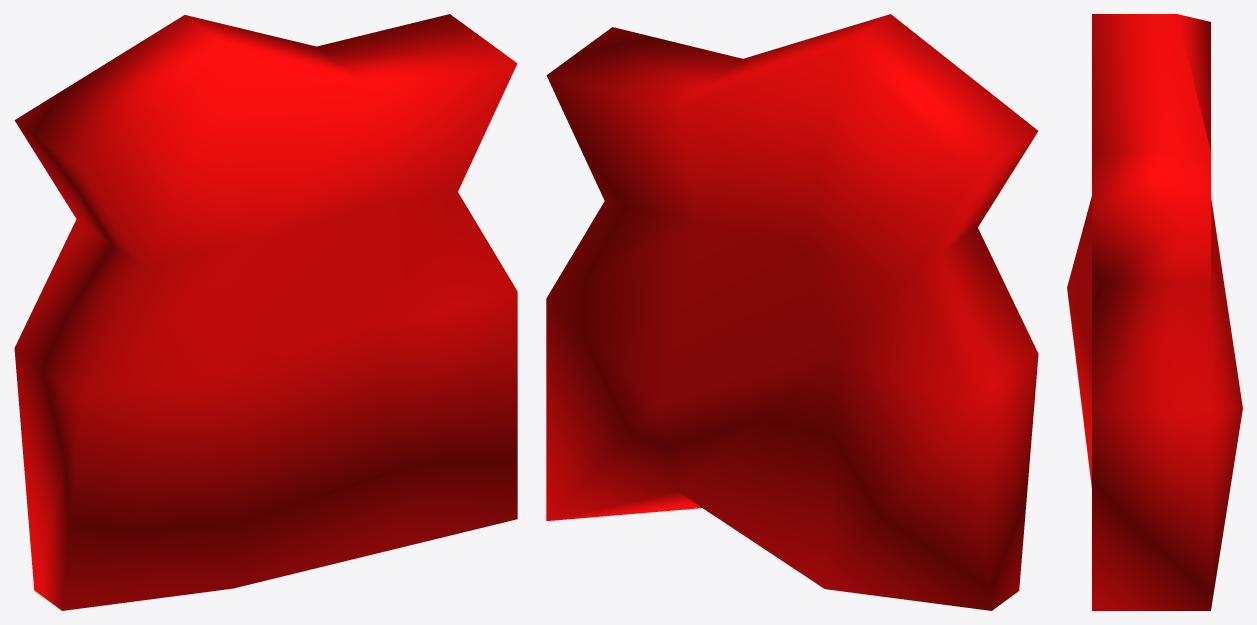
Rendered from item-bark-chip-red.glb.
The picture shows the model from 3 angles, left to right: view 1: azimuth 30°, elevation 25°; view 2: azimuth 150°, elevation 25°; view 3: azimuth 270°, elevation 25°; orthographic projection. The views are drawn at different scales.
Bounding box in the file's own units: 2 × 2.36 × 0.7938.
